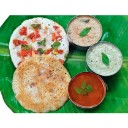dosa: (9, 17, 70, 69), (12, 54, 69, 108)
